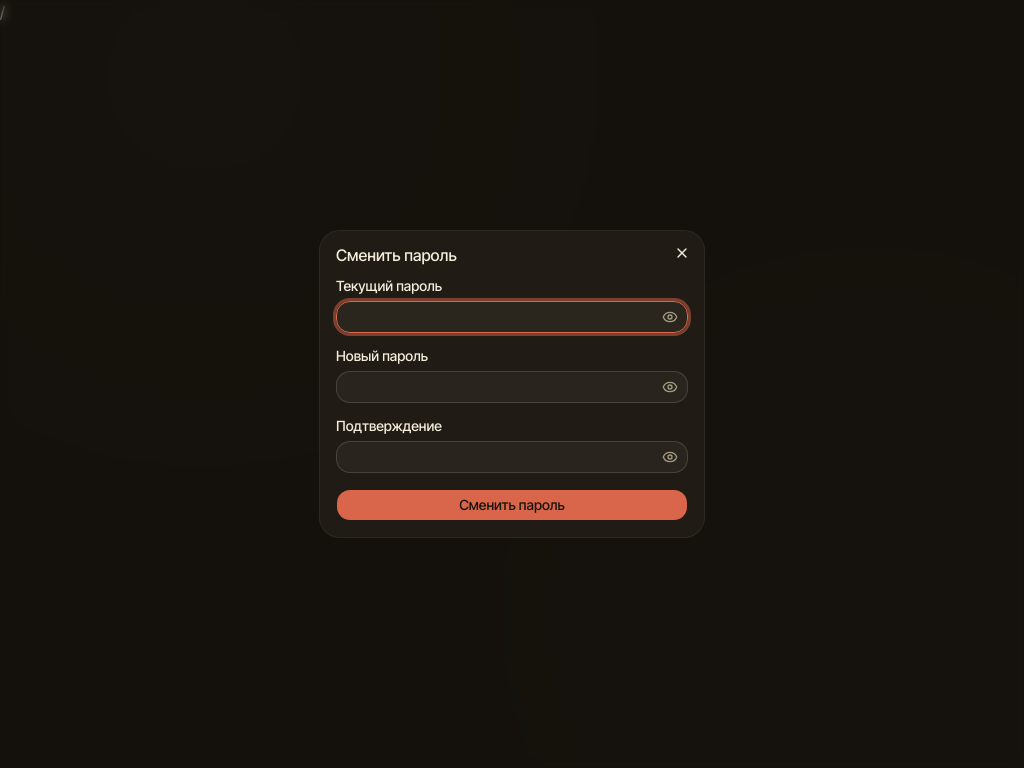
Test: ChangePasswordDialog › показывает 'Неверный текущий пароль' при 401
Step 1. Type "oldpass123" into the password field labelled "Текущий пароль" → (512, 317), box 336,301 -> 688,333
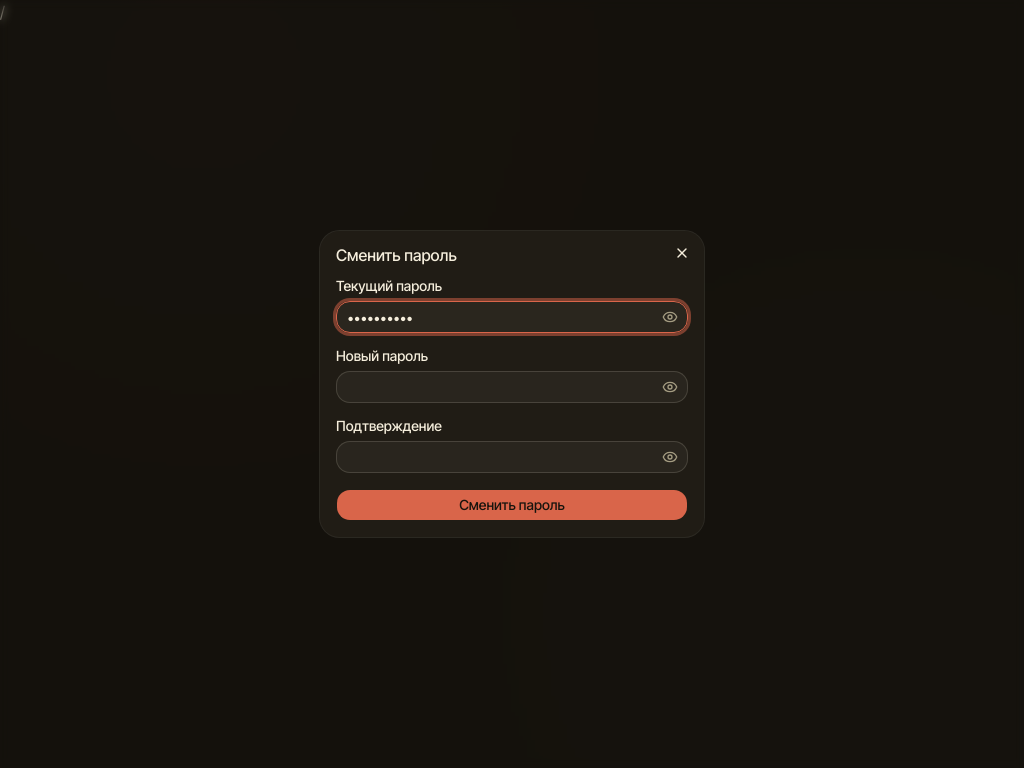
Step 2. Type "newpass123" into the password field labelled "Новый пароль" → (512, 387), box 336,371 -> 688,403
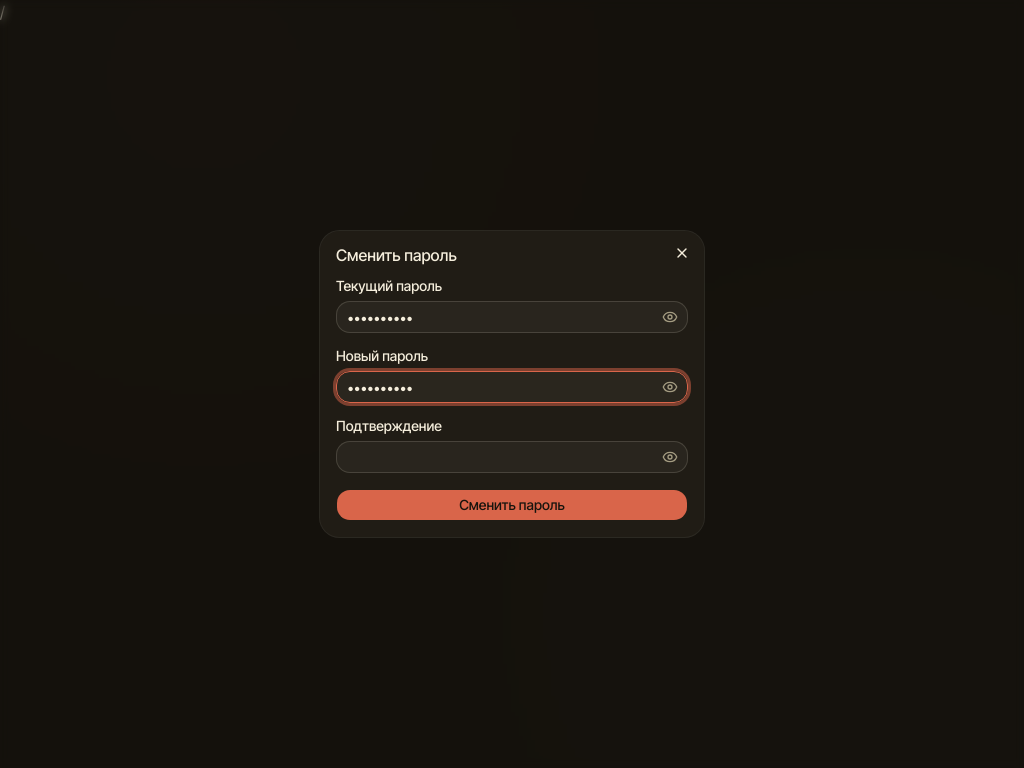
Step 3. Type "newpass123" into the password field labelled "Подтверждение" → (512, 457), box 336,441 -> 688,473
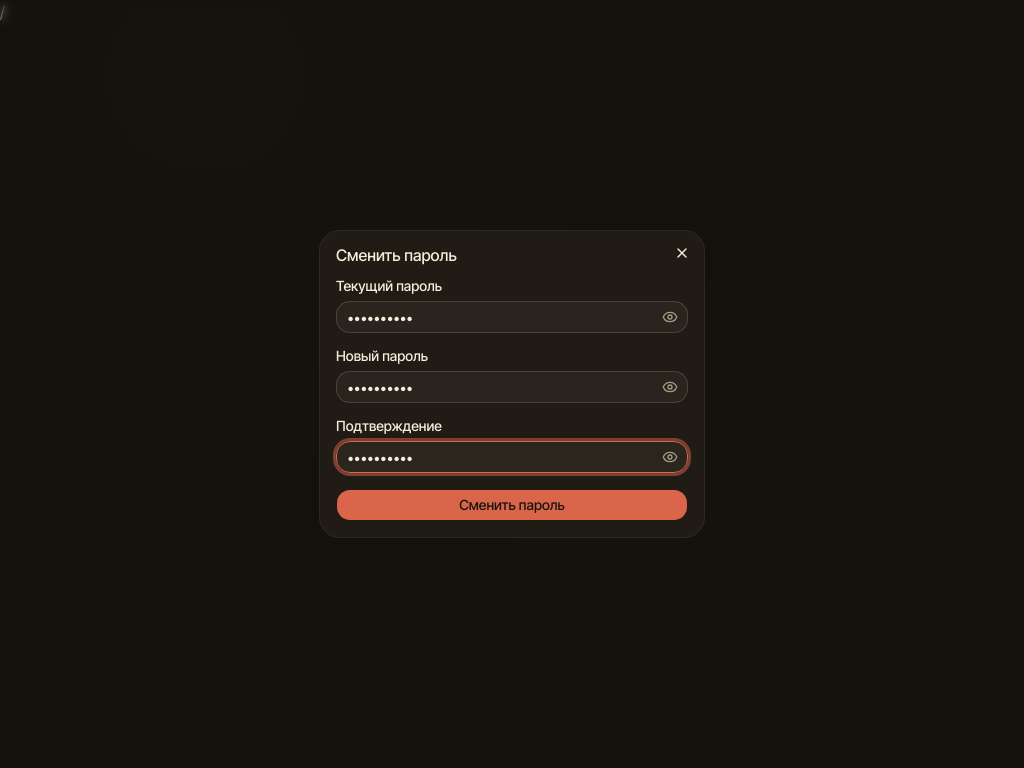
Step 4. Click the button "Сменить пароль" → (512, 505), box 336,489 -> 688,521
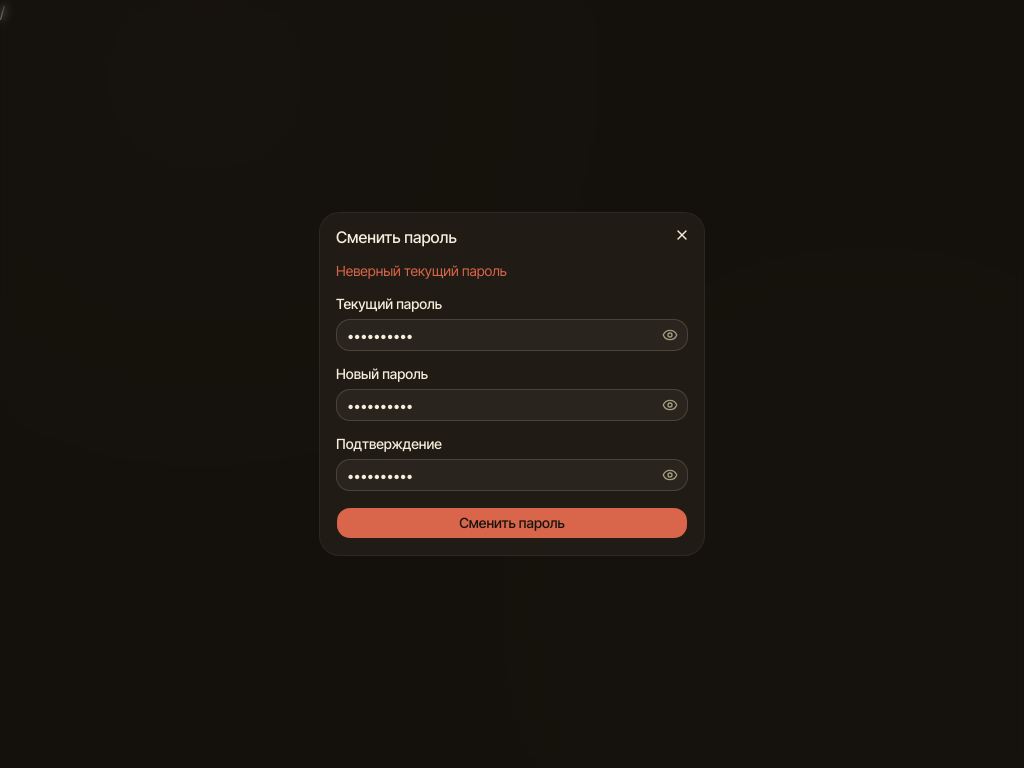
Result: the text "Неверный текущий пароль" is shown at 336,262 -> 507,279
